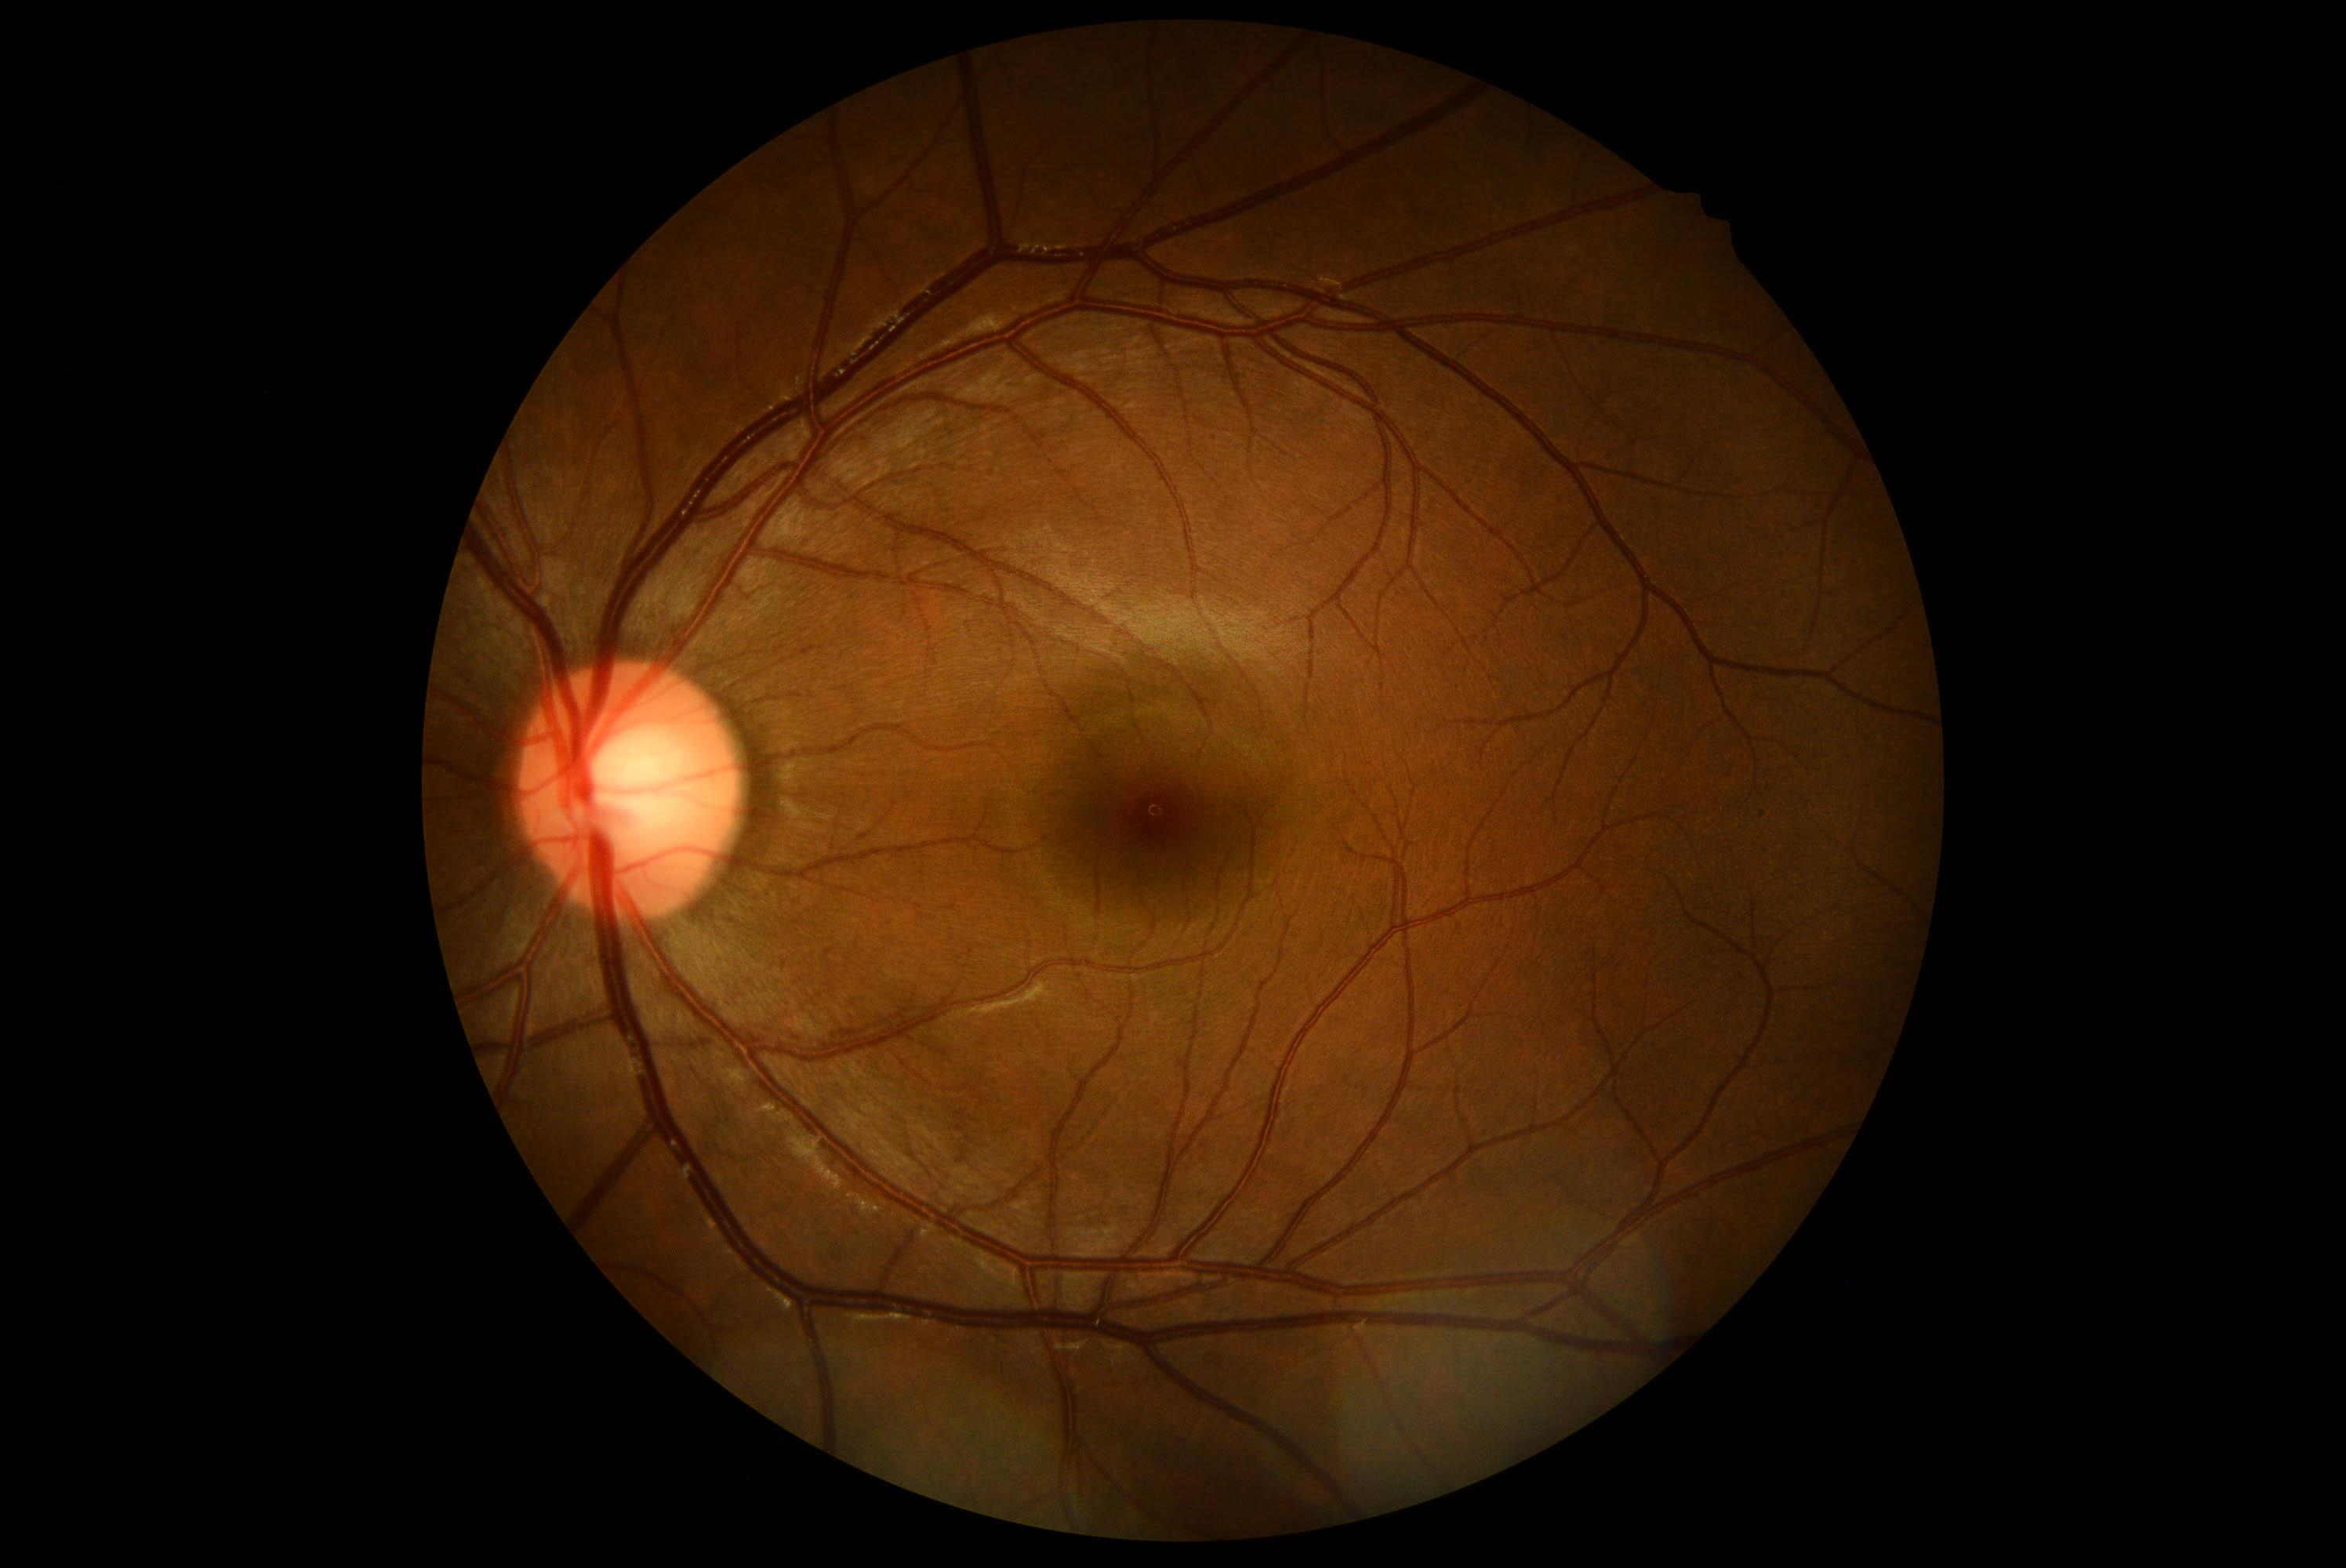Fovea: (1083, 733, 1233, 889)
